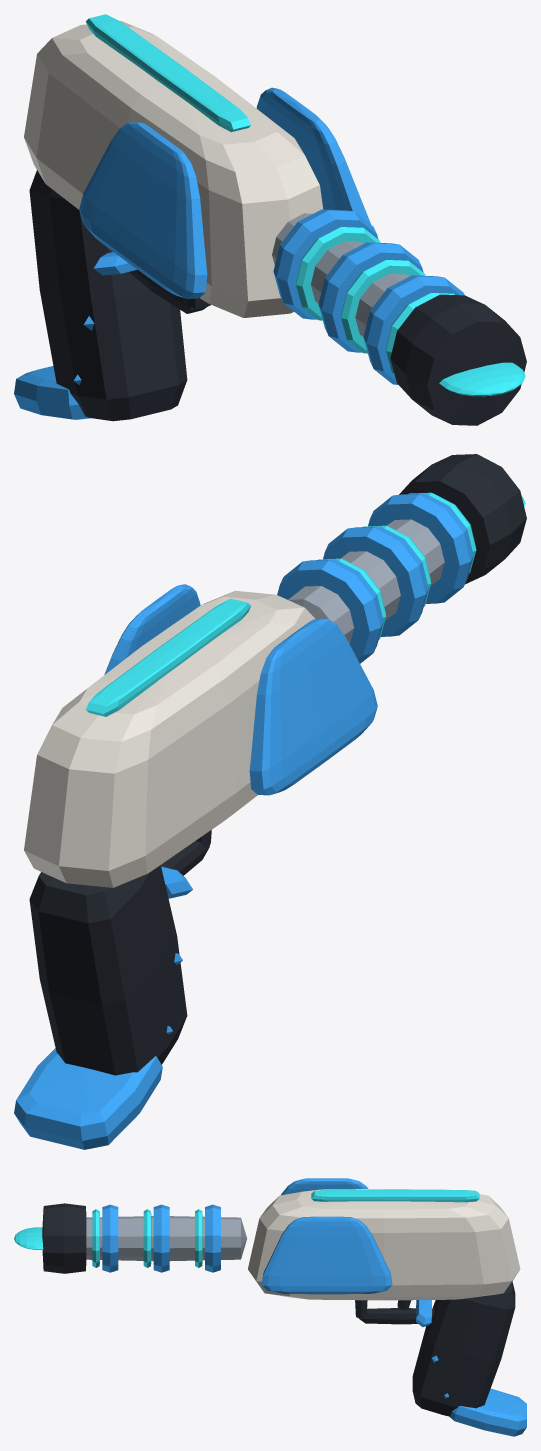
Rendered from g-energy-1.glb.
The picture shows the model from 3 angles, top to bottom: view 1: azimuth 30°, elevation 25°; view 2: azimuth 150°, elevation 25°; view 3: azimuth 270°, elevation 25°; orthographic projection. The views are drawn at different scales.
Visible parts, largest first — view 1: gun; view 2: gun; view 3: gun.
Part boxes in pixels (box(x1,y1,x2,y2)): gun: box(14, 14, 526, 425); gun: box(14, 454, 526, 1149); gun: box(14, 1178, 526, 1436).
Bounding box in the file's own units: 0.226 × 0.4526 × 0.8996.
